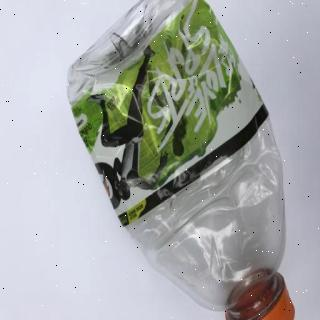Plastic-bottle: (66, 1, 298, 320)
